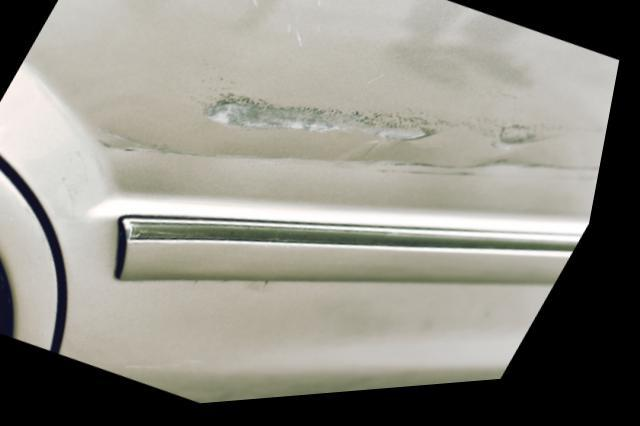scratch: (201, 94, 614, 193)
